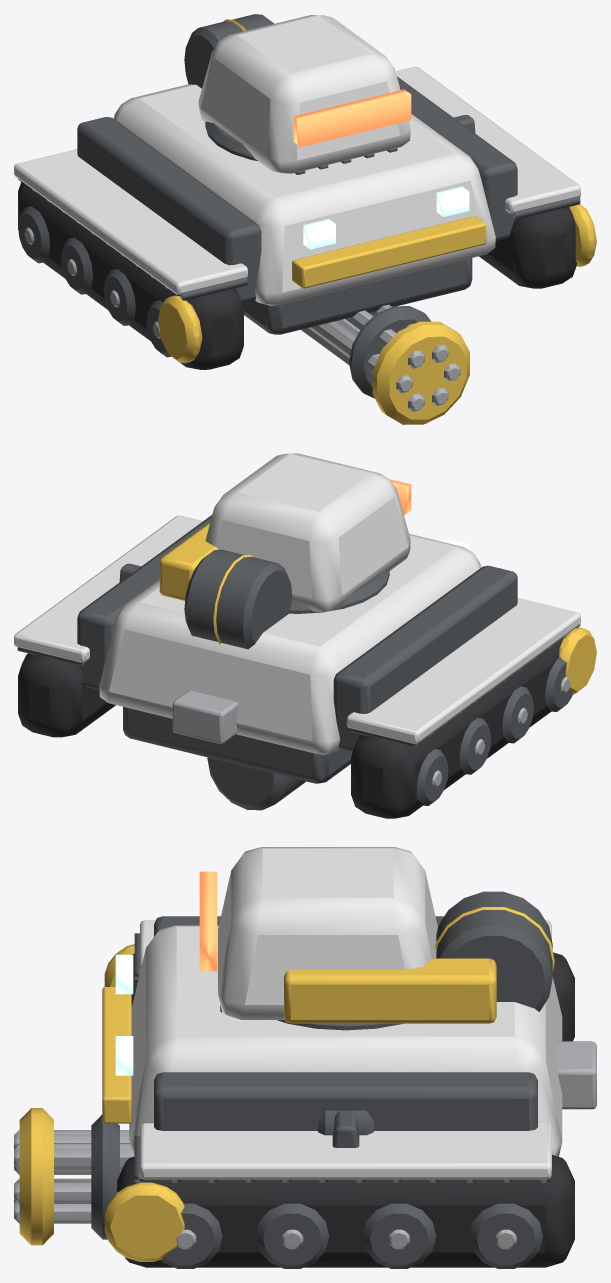
The model's file is auto.glb.
3 views of the same model, one above another, from view 1: azimuth 30°, elevation 25°; view 2: azimuth 150°, elevation 25°; view 3: azimuth 270°, elevation 25° (orthographic). The views are drawn at different scales.
Visible parts, largest first — view 1: Hull, Turret, Barrel; view 2: Hull, Turret, Barrel; view 3: Hull, Turret, Barrel, LegLower, LegUpper.
Boxes of the visible parts, box(x1,y1,x2,y2) form: Hull: box(14, 14, 596, 369); Turret: box(198, 15, 411, 173); Barrel: box(301, 304, 469, 424); Hull: box(14, 515, 596, 818); Turret: box(159, 453, 411, 613); Barrel: box(207, 757, 305, 810); Hull: box(102, 891, 596, 1268); Turret: box(199, 847, 496, 1030); Barrel: box(14, 1108, 132, 1245); LegLower: box(332, 1110, 359, 1147); LegUpper: box(318, 1110, 373, 1135).
Bounding box in the file's own units: 0.802 × 0.5465 × 0.7895.
